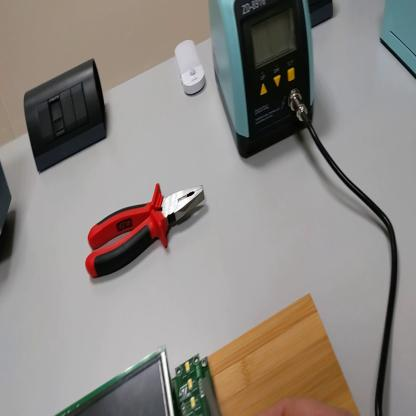hand: (263, 393, 354, 416)
low voltage board: (55, 344, 219, 416)
oscilloscope: (1, 152, 14, 247)
pliers: (85, 173, 208, 278)
socket: (309, 1, 335, 29)
welder base: (380, 1, 416, 77)
welder station: (208, 2, 317, 159)
working area: (211, 294, 360, 415)
